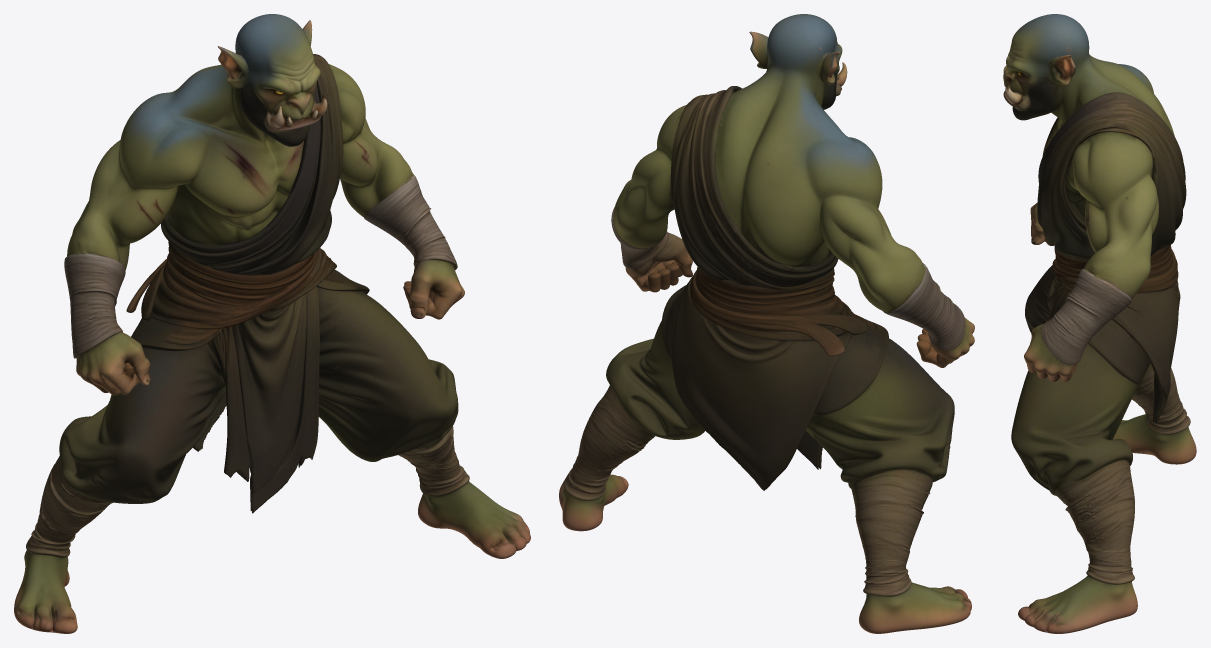
The model's file is half_orc_monk_full_male_01.glb.
The picture shows the model from 3 angles, left to right: view 1: azimuth 30°, elevation 25°; view 2: azimuth 150°, elevation 25°; view 3: azimuth 270°, elevation 25°; orthographic projection. The views are drawn at different scales.
Visible parts, largest first — view 1: material; view 2: material; view 3: material.
Boxes of the visible parts, x1,y1,x2,y2 form: material: [14, 14, 530, 633]; material: [559, 14, 974, 633]; material: [1003, 14, 1196, 633].
Bounding box in the file's own units: 0.7829 × 0.914 × 0.3142.
Materials: 1 (1 with a texture image).
